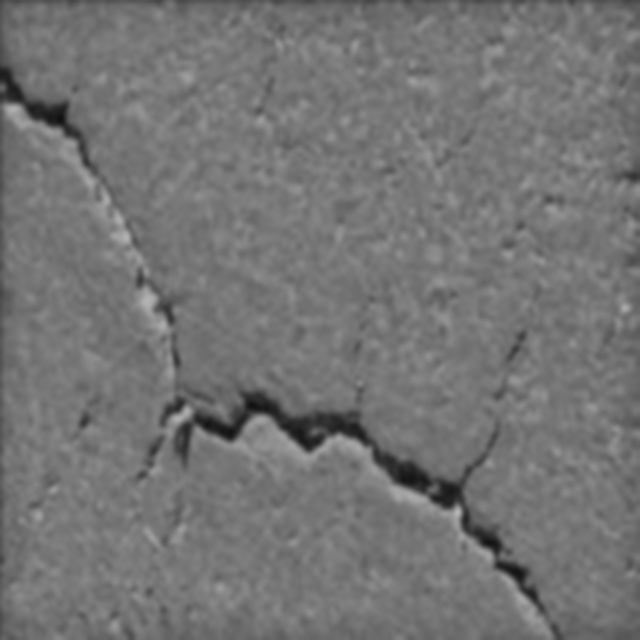SurfaceCrack: (2, 325, 600, 638)
